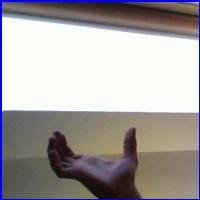space: (38, 123, 148, 197)
